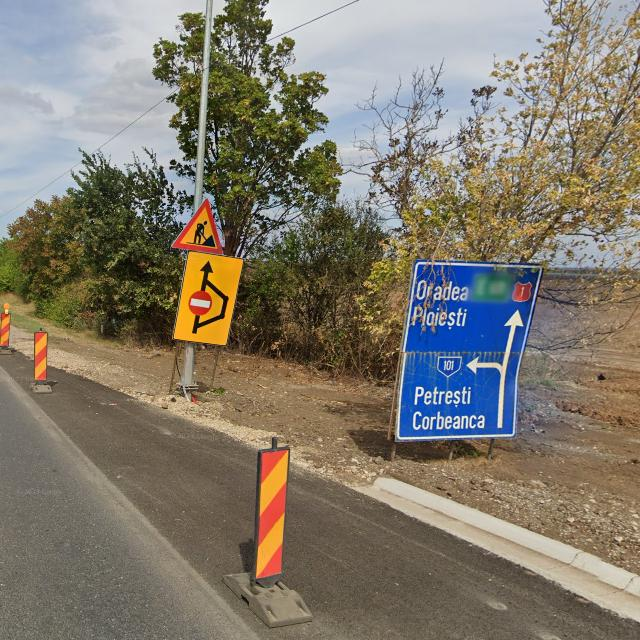forb_ahead: (188, 291, 212, 315)
warn_construction: (172, 198, 224, 254)
